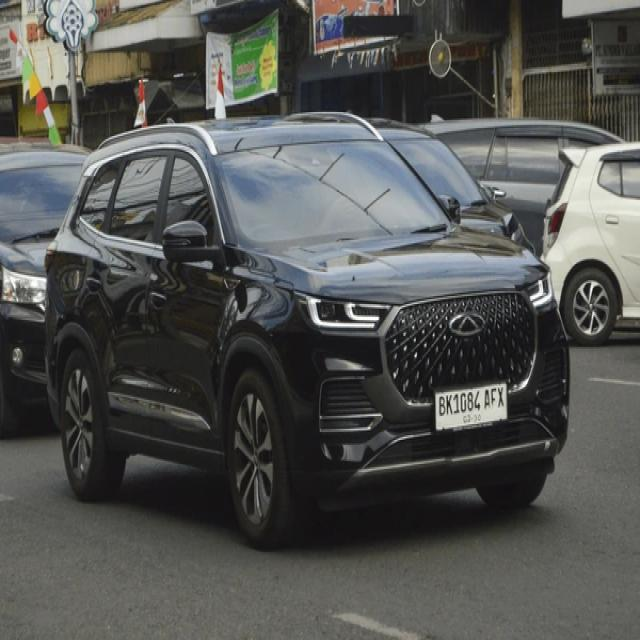cherry: (449, 311, 487, 336)
